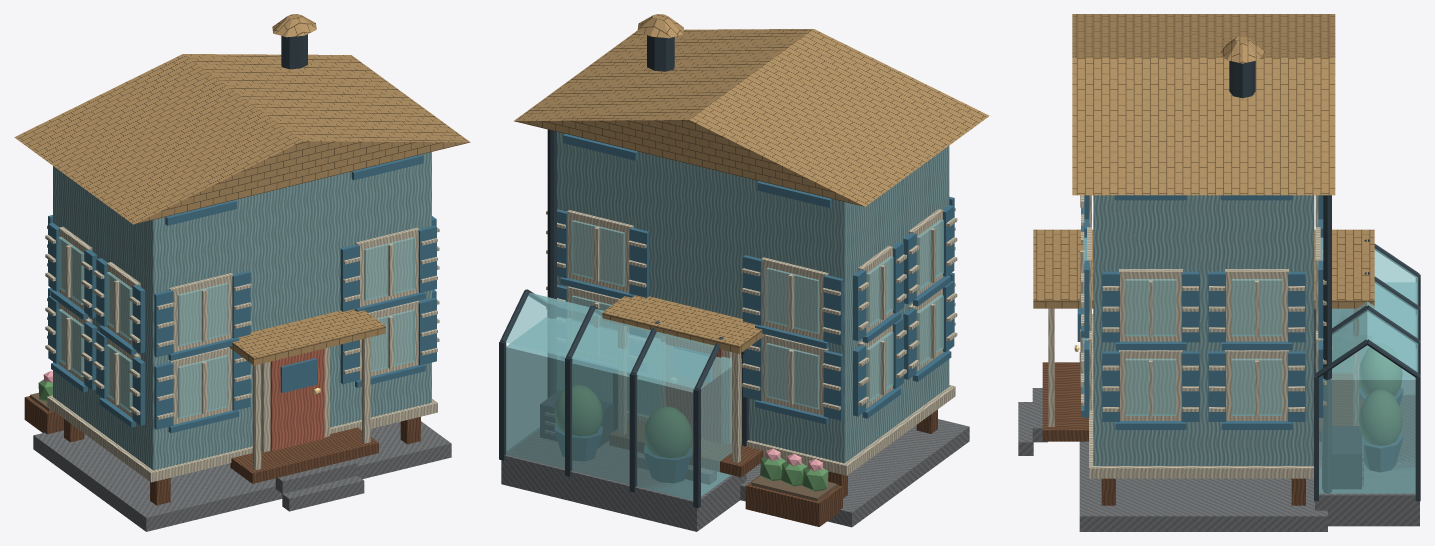
File: house_beach_lv5_greenhouse.glb
3 renders of one model, left to right at view 1: azimuth 30°, elevation 25°; view 2: azimuth 150°, elevation 25°; view 3: azimuth 270°, elevation 25°, orthographic. The views are drawn at different scales.
Parts seen in each view (by area): view 1: gable_roof, walls, foundation, front_porch_canopy, front_door, front_deck, floor_trim, front_window_frame.002, front_window_frame.003, front_window_frame, front_window_frame.001, front_window_glass.002 (+41 smaller); view 2: gable_roof, walls, greenhouse_glazing, greenhouse_plinth, greenhouse_roof, foundation, back_porch_canopy, back_window_frame.003, back_window_frame.002, back_window_frame, back_window_glass.002, back_window_glass (+49 smaller); view 3: gable_roof, walls, greenhouse_glazing, foundation, greenhouse_roof, greenhouse_plinth, right_window_frame.002, right_window_frame.003, right_window_frame, right_window_frame.001, front_porch_canopy, back_porch_canopy (+33 smaller).
Boxes of the visible parts, bbox=[...] form: gable_roof: bbox=[14, 54, 470, 224]; walls: bbox=[53, 152, 431, 470]; foundation: bbox=[33, 421, 451, 531]; front_porch_canopy: bbox=[229, 309, 385, 365]; front_door: bbox=[270, 348, 324, 451]; front_deck: bbox=[230, 427, 378, 483]; floor_trim: bbox=[47, 395, 437, 482]; front_window_frame.002: bbox=[169, 273, 233, 352]; front_window_frame.003: bbox=[355, 227, 419, 306]; front_window_frame: bbox=[169, 347, 232, 424]; front_window_frame.001: bbox=[360, 300, 419, 379]; front_window_glass.002: bbox=[177, 283, 228, 346]; gable_roof: bbox=[514, 29, 989, 206]; walls: bbox=[557, 132, 949, 463]; greenhouse_glazing: bbox=[506, 317, 741, 500]; greenhouse_plinth: bbox=[501, 429, 746, 531]; greenhouse_roof: bbox=[506, 293, 714, 388]; foundation: bbox=[740, 419, 969, 527]; back_porch_canopy: bbox=[602, 295, 765, 353]; back_window_frame.003: bbox=[567, 210, 633, 292]; back_window_frame.002: bbox=[761, 257, 828, 340]; back_window_frame: bbox=[762, 334, 828, 415]; back_window_glass.002: bbox=[766, 267, 819, 333]; back_window_glass: bbox=[766, 343, 819, 409]; gable_roof: bbox=[1072, 14, 1335, 195]; walls: bbox=[1093, 195, 1314, 465]; greenhouse_glazing: bbox=[1319, 282, 1416, 493]; foundation: bbox=[1079, 352, 1327, 531]; greenhouse_roof: bbox=[1316, 248, 1418, 372]; greenhouse_plinth: bbox=[1315, 396, 1419, 526]; right_window_frame.002: bbox=[1119, 269, 1182, 341]; right_window_frame.003: bbox=[1225, 269, 1288, 341]; right_window_frame: bbox=[1119, 350, 1182, 420]; right_window_frame.001: bbox=[1225, 350, 1288, 420]; front_porch_canopy: bbox=[1033, 229, 1093, 308]; back_porch_canopy: bbox=[1314, 229, 1374, 308].
Size of the model in its own units: 6.6 by 7.6 by 6.19.
13 materials, 7 textured.
